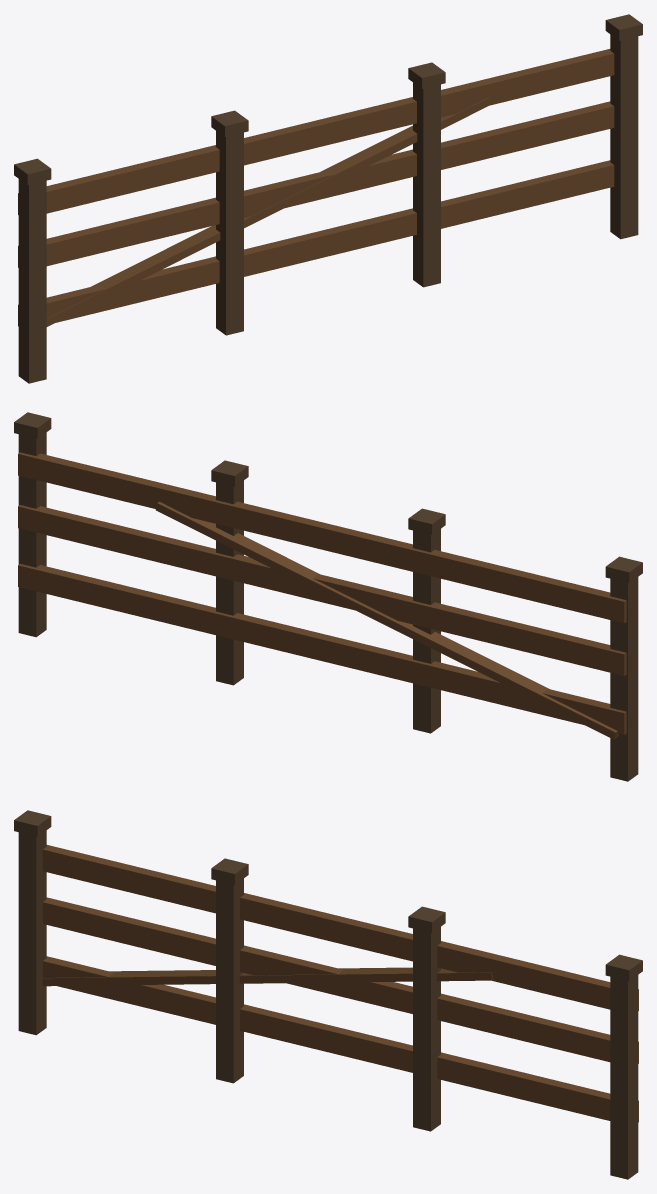
File: fence_wood.glb
The picture shows the model from 3 angles, top to bottom: view 1: azimuth 30°, elevation 25°; view 2: azimuth 150°, elevation 25°; view 3: azimuth 330°, elevation 25°; orthographic projection.
Visible parts, largest first — view 1: fence_wood; view 2: fence_wood; view 3: fence_wood.
Part boxes in pixels (left/top/right/bottom): fence_wood: left=14, top=14, right=642, bottom=383; fence_wood: left=14, top=412, right=642, bottom=781; fence_wood: left=14, top=810, right=642, bottom=1179.
Bounding box in the file's own units: 4.16 × 1.37 × 0.19.
